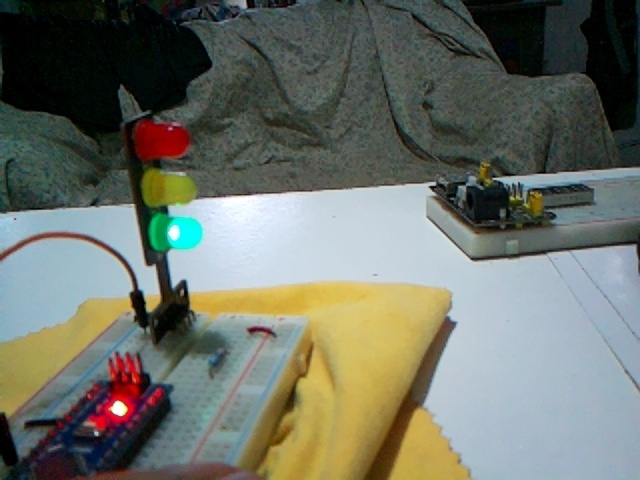traffic_light_green: (121, 113, 202, 343)
